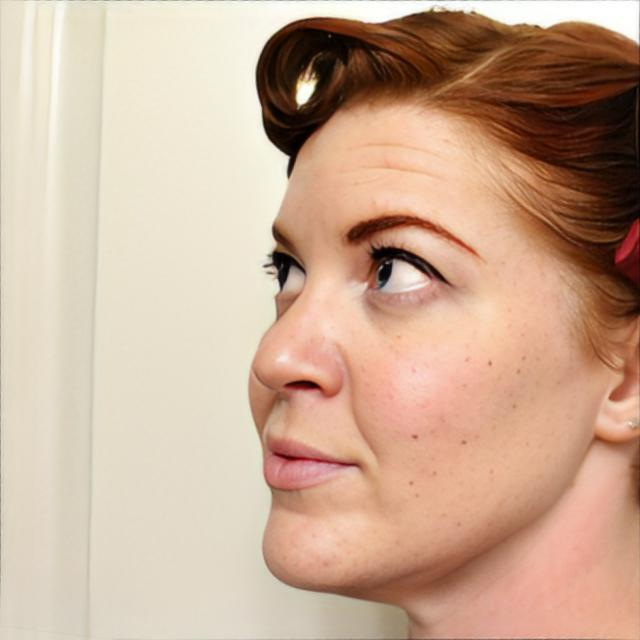surprise: (245, 87, 590, 595)
